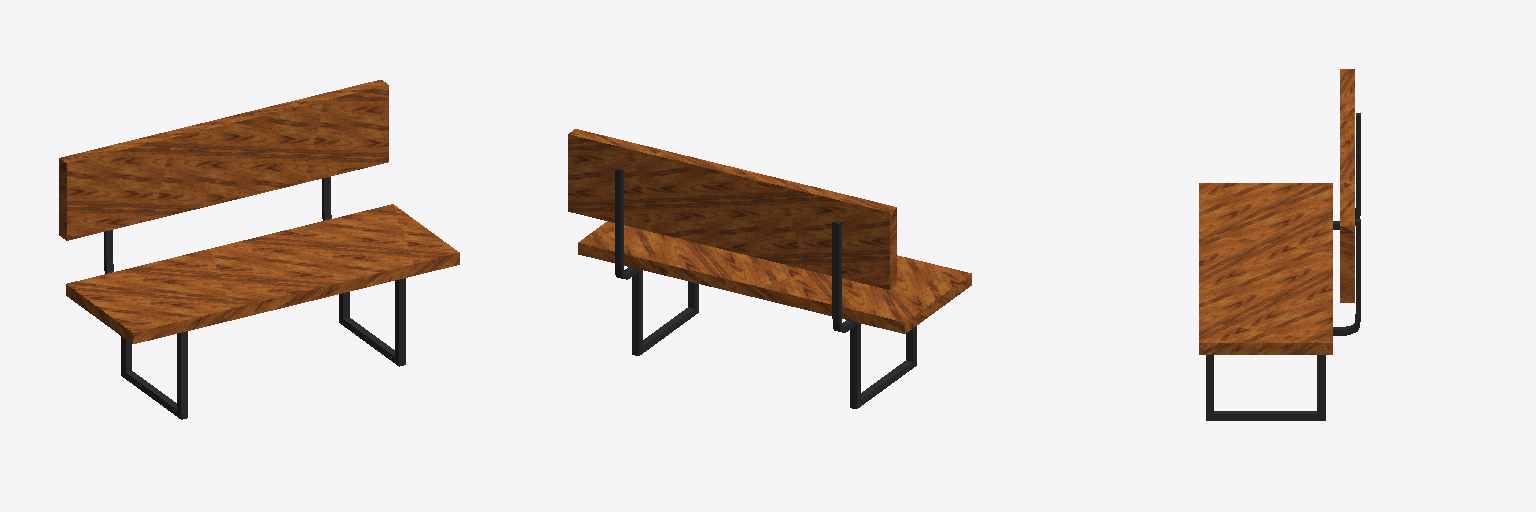
The picture shows the model from 3 angles: view 1: azimuth 30°, elevation 25°; view 2: azimuth 150°, elevation 25°; view 3: azimuth 270°, elevation 25°; orthographic projection.
Parts seen in each view (by area): view 1: Cube.001, Cube, Cube.003_Cube.004, Cube.002; view 2: Cube.001, Cube, Cube.003_Cube.004, Cube.002; view 3: Cube, Cube.001, Cube.002, Cube.003_Cube.004.
Boxes of the visible parts, box(x1,y1,x2,y2) form: Cube.001: box(59, 80, 388, 240); Cube: box(66, 204, 459, 343); Cube.003_Cube.004: box(104, 230, 187, 419); Cube.002: box(322, 177, 405, 366); Cube.001: box(568, 129, 896, 289); Cube: box(578, 221, 971, 333); Cube.003_Cube.004: box(832, 221, 916, 408); Cube.002: box(615, 167, 698, 355); Cube: box(1199, 183, 1332, 354); Cube.001: box(1340, 69, 1354, 302); Cube.002: box(1206, 219, 1360, 420); Cube.003_Cube.004: box(1333, 113, 1360, 229).
Bounding box in the file's own units: 5.64 × 3.6 × 2.42.
3 materials, 2 textured.